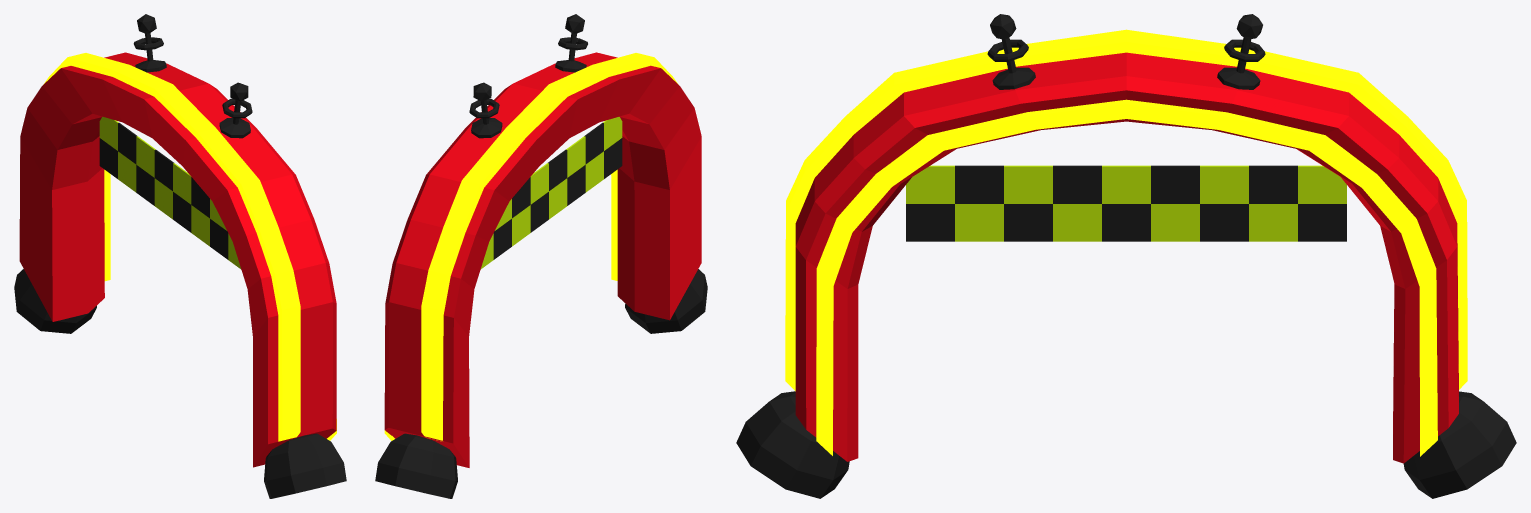
The model's file is FINISH.fbx.
3 renders of one model, left to right at view 1: azimuth 30°, elevation 25°; view 2: azimuth 150°, elevation 25°; view 3: azimuth 270°, elevation 25°, orthographic. The views are drawn at different scales.
Parts seen in each view (by area): view 1: Куб; view 2: Куб; view 3: Куб.
Part boxes in pixels (<box>): Куб: <box>14,14,346,498</box>; Куб: <box>375,14,707,498</box>; Куб: <box>736,14,1516,498</box>.
Bounding box in the file's own units: 54.21 × 242 × 354.
